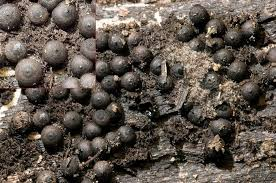pudricion radicular: (3, 4, 265, 175)
